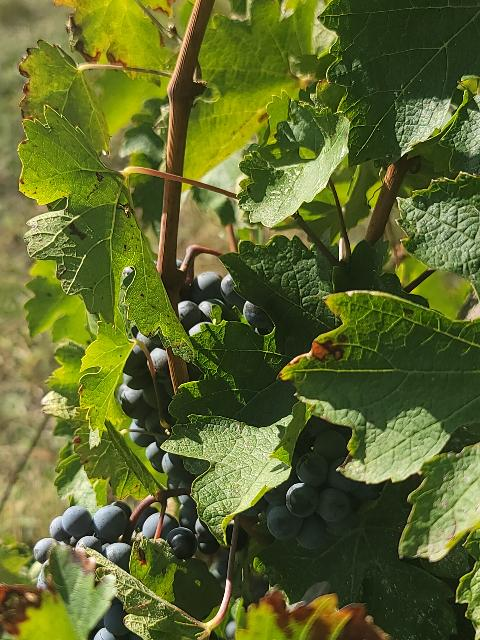grapes: (34, 504, 221, 620), (265, 418, 382, 550), (116, 329, 200, 491), (179, 271, 274, 339), (179, 495, 198, 529), (105, 620, 130, 640)
